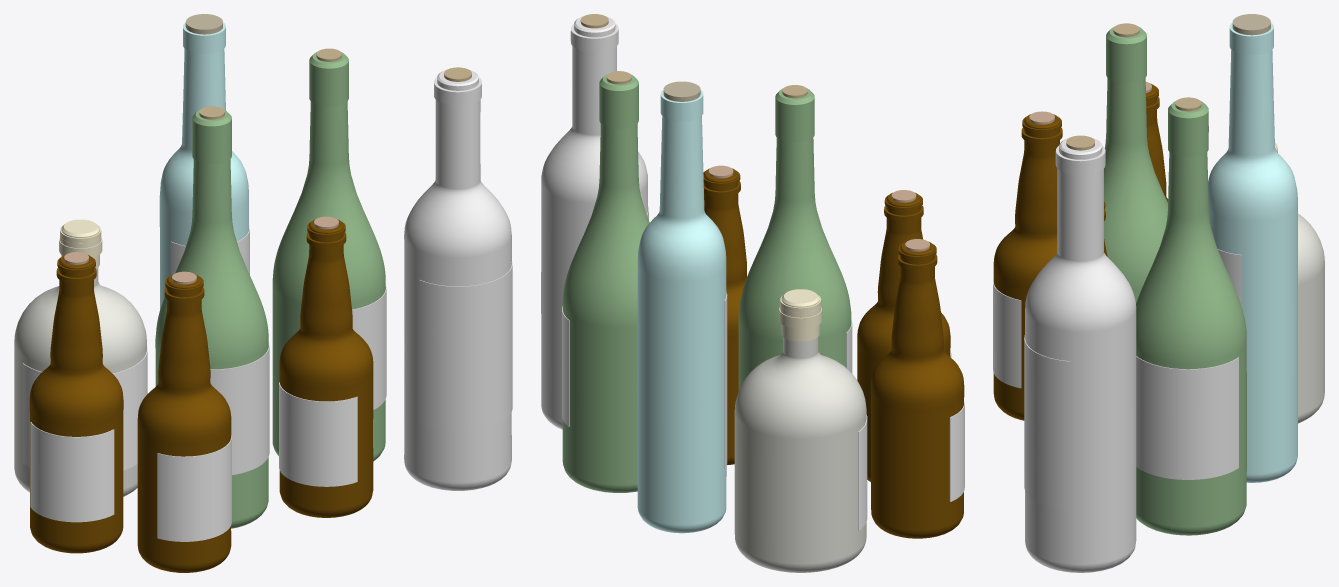
The model's file is 892_sakebottles.glb.
3 views of the same model, side by side, from view 1: azimuth 30°, elevation 25°; view 2: azimuth 150°, elevation 25°; view 3: azimuth 270°, elevation 25° (orthographic). The views are drawn at different scales.
Parts seen in each view (by area): view 1: Body.002, Body.006, Body.001, Body.007, Body, Body.005, Body.003, Body.004; view 2: Body.004, Body.003, Body.005, Body.007, Body, Body.002, Body.006, Body.001; view 3: Body.002, Body.005, Body.004, Body, Body.006, Body.003, Body.007.
Part boxes in pixels (box(x1,y1,x2,y2)): Body.002: box(404, 67, 512, 490); Body.006: box(137, 271, 231, 572); Body.001: box(279, 216, 373, 517); Body.007: box(29, 252, 123, 553); Body: box(155, 106, 269, 528); Body.005: box(272, 48, 386, 461); Body.003: box(14, 219, 147, 496); Body.004: box(159, 14, 249, 309); Body.004: box(637, 81, 727, 533); Body.003: box(734, 289, 867, 572); Body.005: box(562, 71, 649, 492); Body.007: box(871, 239, 964, 538); Body: box(738, 85, 852, 390); Body.002: box(541, 14, 648, 429); Body.006: box(857, 190, 951, 481); Body.001: box(703, 165, 746, 464); Body.002: box(1024, 135, 1136, 572); Body.005: box(1136, 97, 1246, 535); Body.004: box(1208, 14, 1297, 482); Body: box(1104, 23, 1167, 302); Body.006: box(993, 111, 1062, 420); Body.003: box(1275, 143, 1324, 423); Body.007: box(1145, 81, 1168, 202).
Size of the model in its own units: 0.3506 by 0.3285 by 0.2214.
